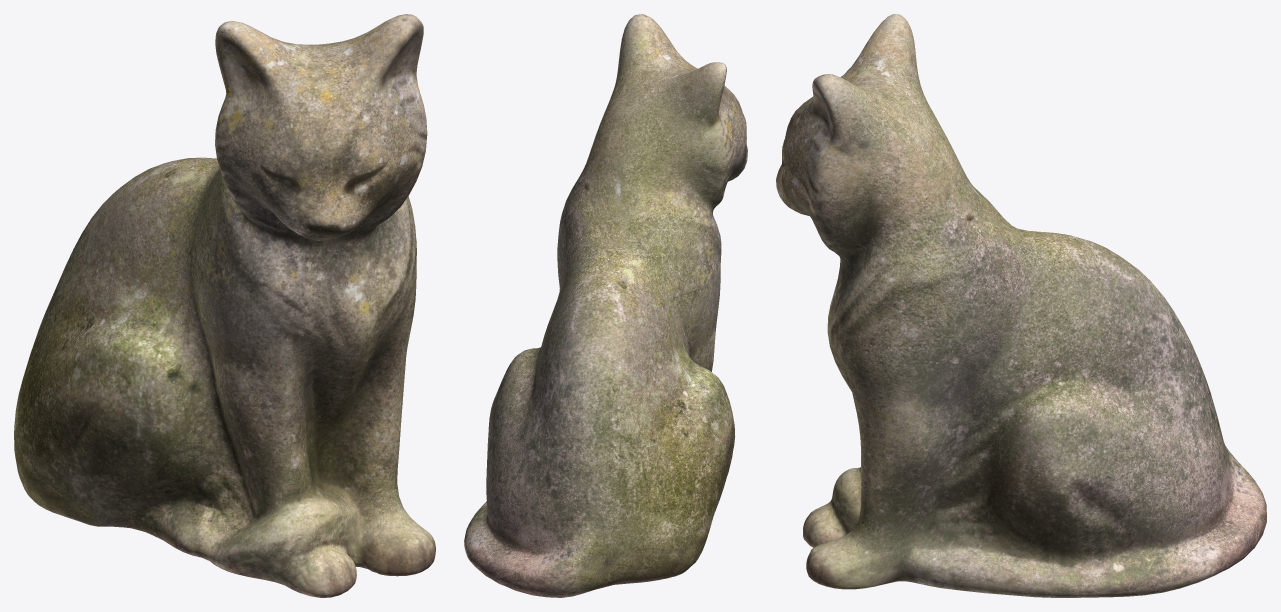
The model's file is concrete_cat_statue.glb.
3 views of the same model, side by side, from view 1: azimuth 30°, elevation 25°; view 2: azimuth 150°, elevation 25°; view 3: azimuth 270°, elevation 25° (orthographic). The views are drawn at different scales.
Visible parts, largest first — view 1: concrete_cat_statue; view 2: concrete_cat_statue; view 3: concrete_cat_statue.
Part boxes in pixels (box(x1,y1,x2,y2)): concrete_cat_statue: box(14, 14, 435, 597); concrete_cat_statue: box(464, 14, 747, 597); concrete_cat_statue: box(776, 14, 1266, 597).
Size of the model in its own units: 0.153 by 0.283 by 0.25.
1 material, 1 textured.
